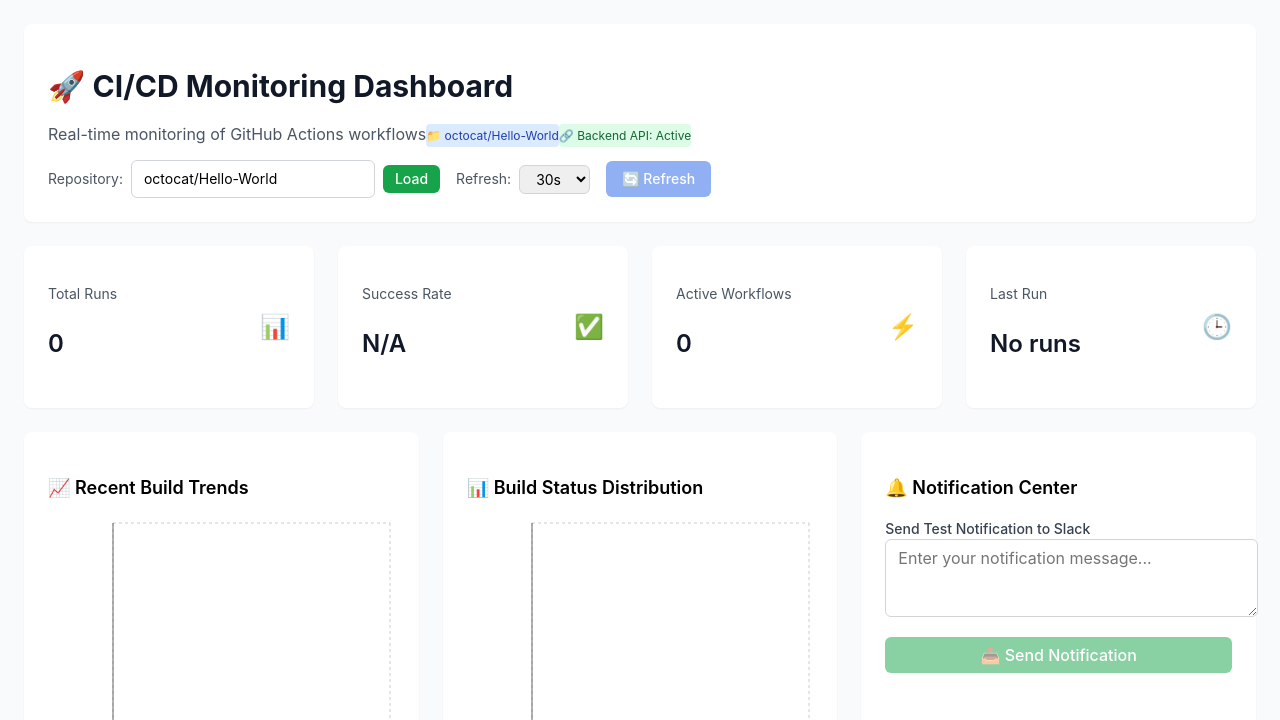
Test: Dashboard Component › validates repository input format
This screenshot has width=1280, height=720.
Invalid format should disable button
Replace the text in the field with placeholder "owner/repo (e.g., facebook/react)" with "invalid-repo" at [253, 179], box [131, 160, 375, 198]
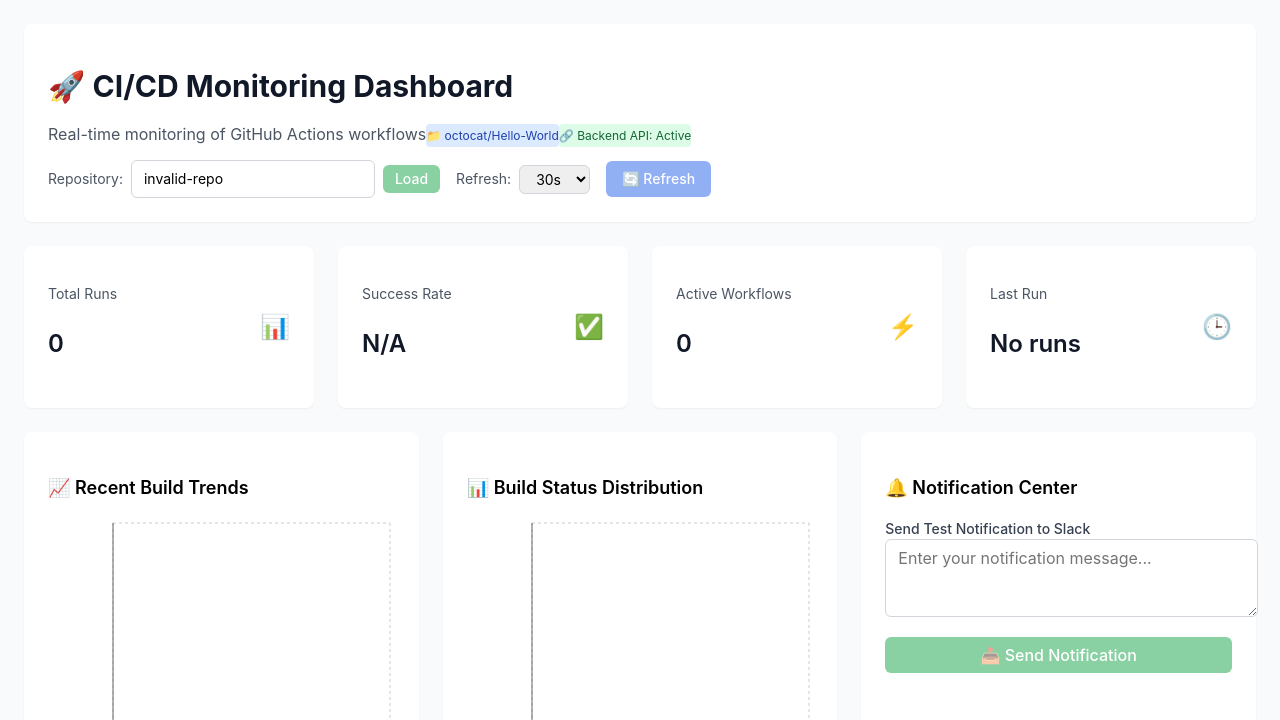
Result: the button "Load" is disabled at [383, 165, 440, 193]
Valid format should enable button
Replace the text in the field with placeholder "owner/repo (e.g., facebook/react)" with "owner/repo" at [253, 179], box [131, 160, 375, 198]
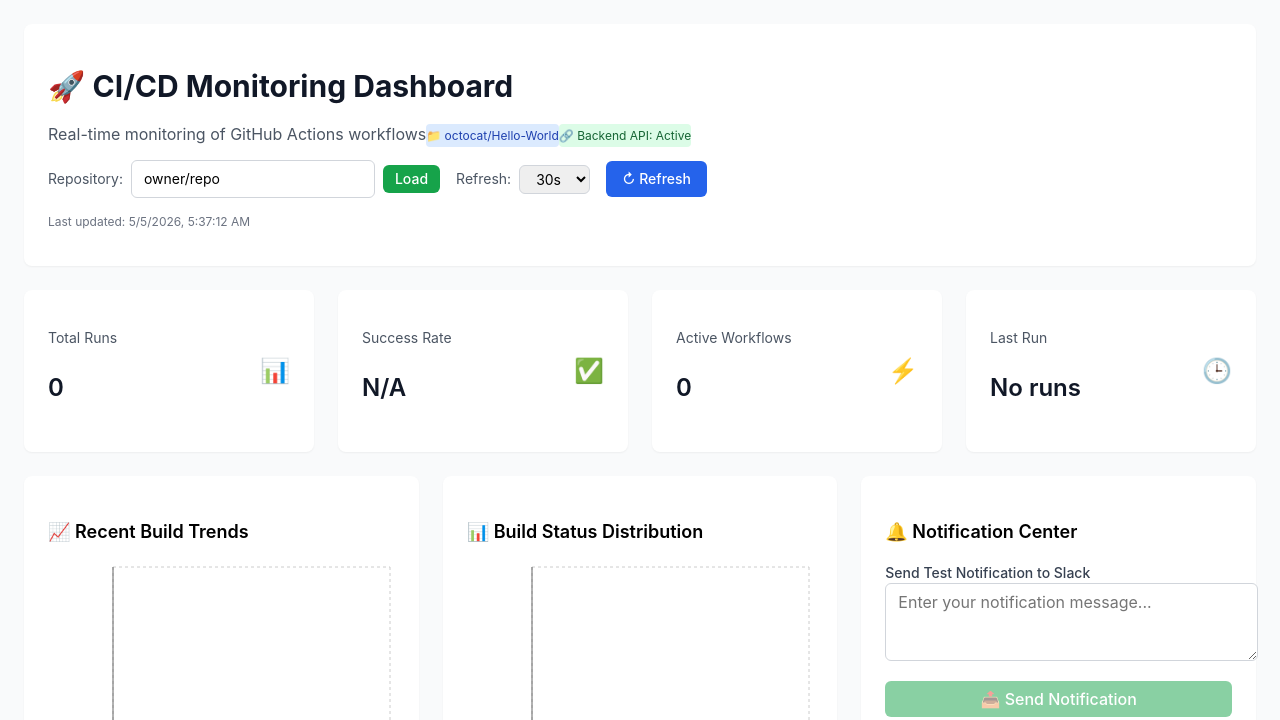
Result: the button "Load" is enabled at [383, 165, 440, 193]
